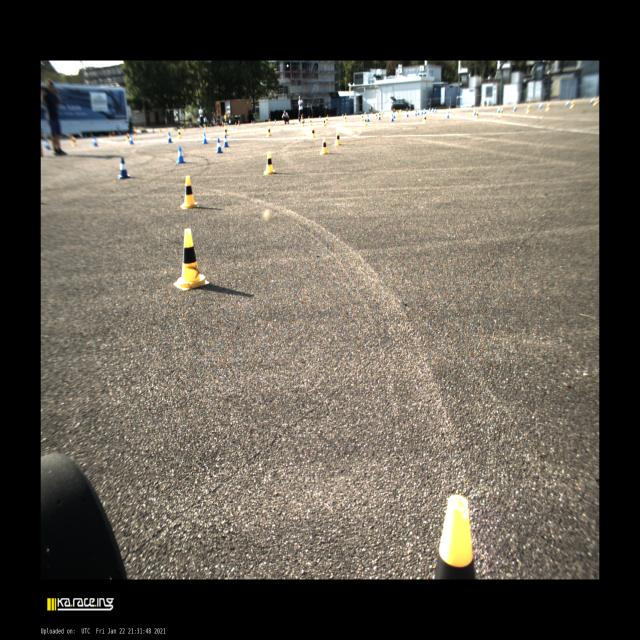blue_cone: (118, 156, 130, 180), (177, 146, 186, 163), (215, 138, 223, 153), (222, 134, 229, 148), (202, 132, 208, 144), (166, 132, 172, 143), (128, 134, 134, 144), (93, 136, 98, 147), (390, 114, 394, 122), (446, 110, 449, 118), (367, 114, 370, 122)
yellow_cone: (434, 494, 476, 580), (173, 229, 210, 290), (180, 176, 199, 208), (264, 151, 274, 175), (320, 137, 328, 155), (334, 131, 341, 146), (310, 126, 316, 138), (266, 125, 272, 136), (177, 130, 182, 140), (499, 108, 504, 117), (476, 110, 480, 119), (424, 115, 426, 123)
